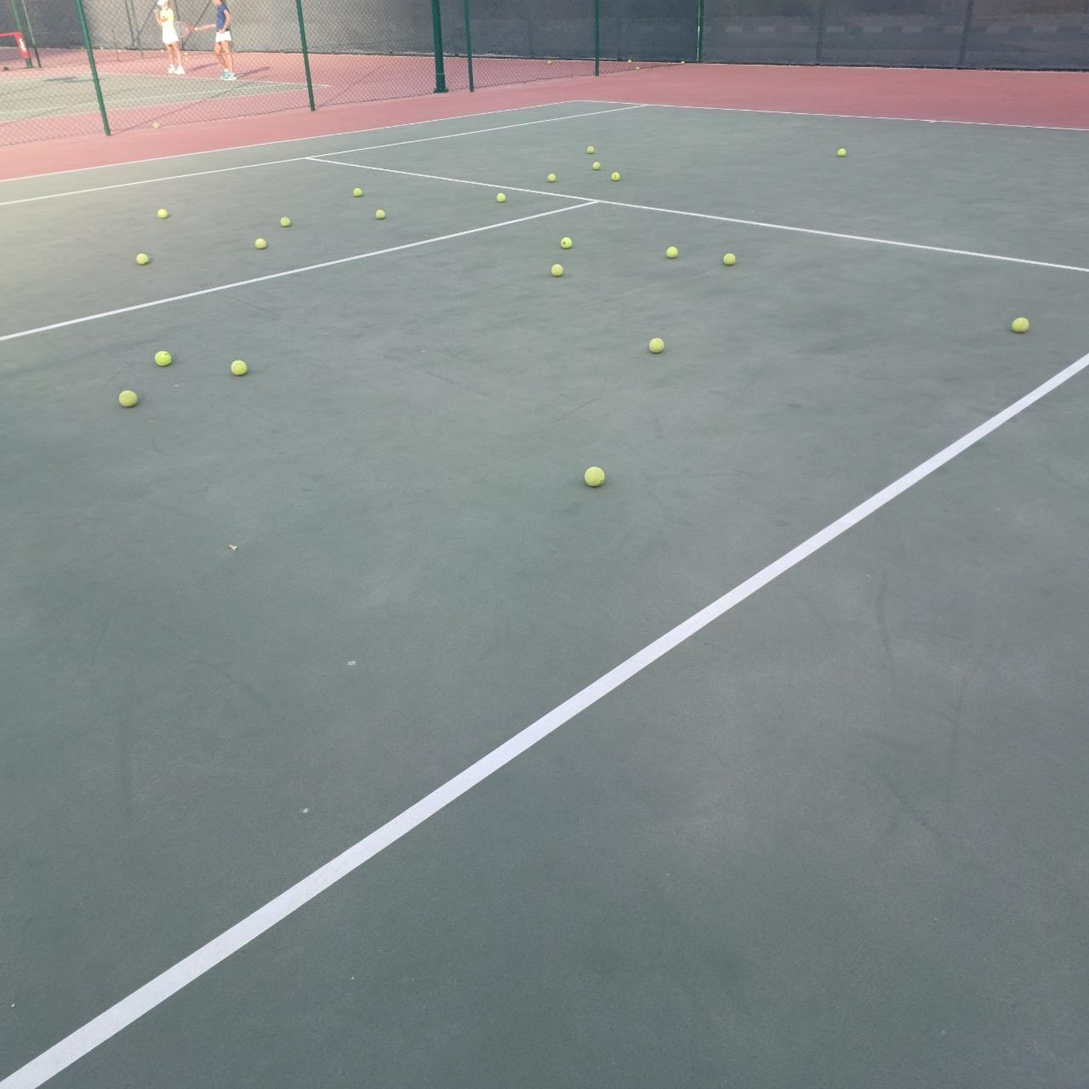tennis-ball: (582, 464, 605, 487), (118, 390, 138, 408), (1012, 317, 1029, 333), (154, 350, 171, 366), (230, 360, 247, 375), (649, 338, 664, 353), (551, 264, 563, 277), (723, 253, 736, 265), (137, 254, 148, 265), (561, 238, 572, 249), (666, 247, 677, 258), (255, 238, 266, 248), (158, 209, 168, 218), (281, 217, 290, 227), (376, 210, 386, 219), (497, 192, 506, 202), (547, 173, 556, 182), (611, 172, 620, 181), (354, 188, 362, 197), (593, 162, 600, 170), (838, 149, 846, 156), (587, 147, 594, 154), (681, 61, 685, 65), (636, 67, 639, 71)
